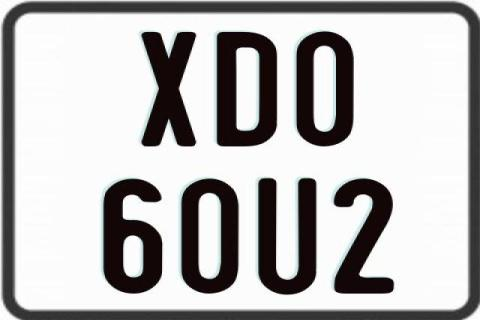0: (296, 31, 358, 149), (178, 177, 240, 292), (102, 178, 161, 298), (334, 177, 394, 293)
D: (218, 31, 281, 148)
U: (256, 176, 316, 296)
X: (140, 30, 200, 146)
